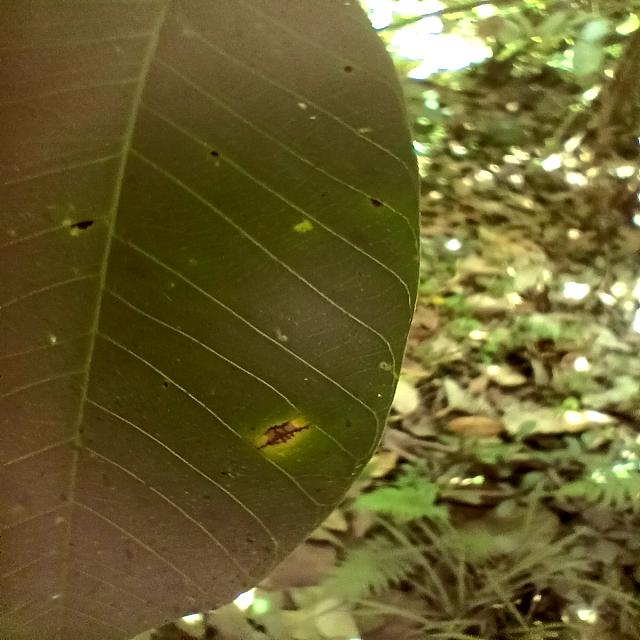Corynespora: (256, 420, 310, 450)
